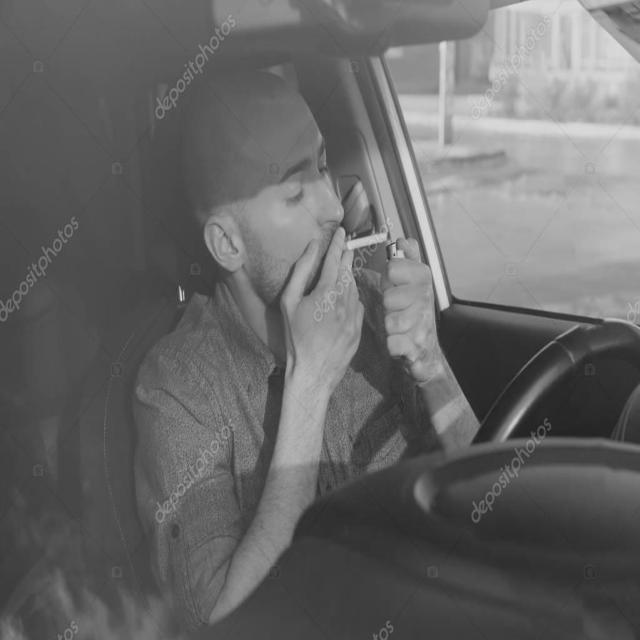Cigarette: (338, 229, 400, 255)
